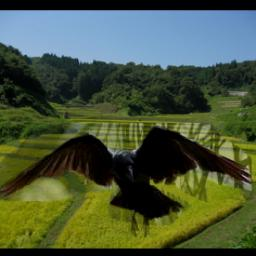Crow: (0, 124, 252, 238)
